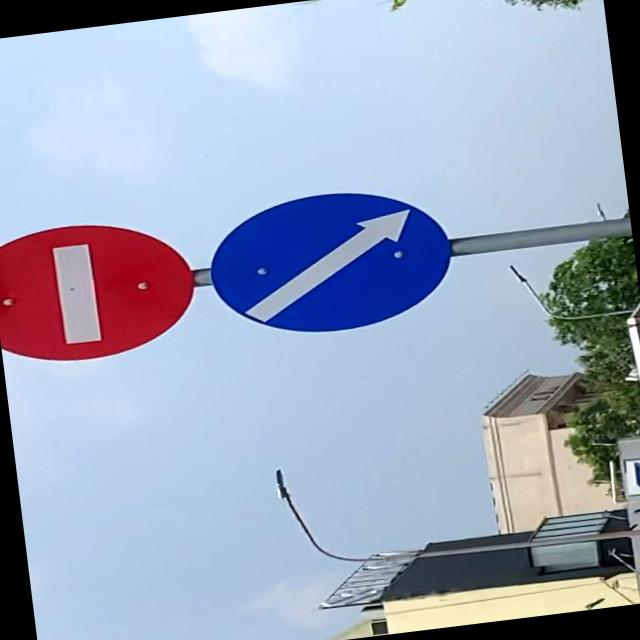P-102: (0, 211, 200, 368)
R-302a: (202, 178, 458, 344)
